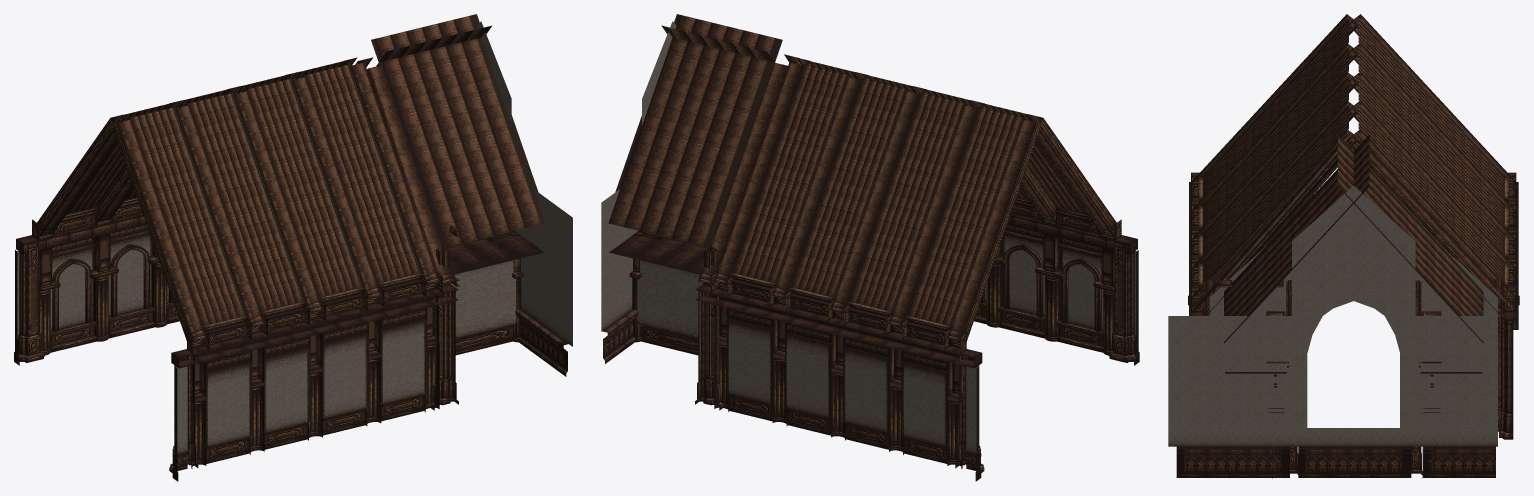
File: EnvBdgMD_Church_Mount_C_Indoor.FBX
3 renders of one model, left to right at view 1: azimuth 30°, elevation 25°; view 2: azimuth 150°, elevation 25°; view 3: azimuth 270°, elevation 25°, orthographic.
Parts seen in each view (by area): view 1: EnvBdgMD_Church_Mount_C_Indoor; view 2: EnvBdgMD_Church_Mount_C_Indoor; view 3: EnvBdgMD_Church_Mount_C_Indoor.
Boxes of the visible parts, x1,y1,x2,y2 form: EnvBdgMD_Church_Mount_C_Indoor: (14, 14, 572, 481); EnvBdgMD_Church_Mount_C_Indoor: (601, 14, 1139, 481); EnvBdgMD_Church_Mount_C_Indoor: (1168, 14, 1519, 478).
Bounding box in the file's own units: 2206 × 1663 × 1705.
